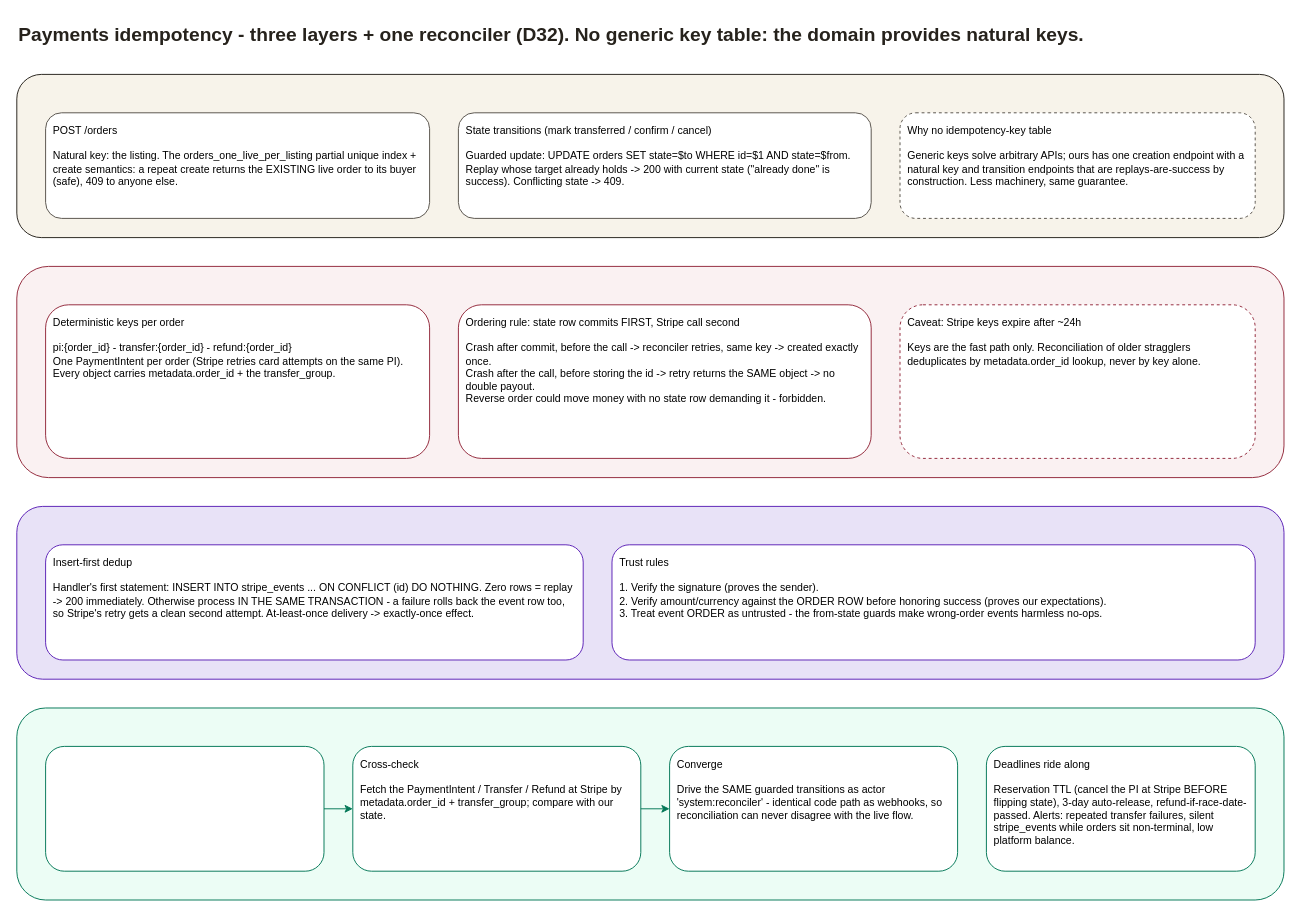
Image size: 1301x917. Some labels were removed from this diagram. The box of each missing label's shape, as (x1, y1, x2, y2) in pixels:
LAYER 1 - Browser -> API (double clicks, mobile network retries): (16, 73, 1284, 238)
LAYER 2 - API -> Stripe (the critical layer: real money moves here): (16, 265, 1284, 478)
LAYER 3 - Stripe -> API (webhooks: at-least-once, unordered): (16, 505, 1284, 679)
Sweep Every few minutes: orders in non-terminal states older than a threshold.: (45, 745, 324, 871)
THE RECONCILER - one batchjob backstops every crash window: (16, 707, 1284, 900)
